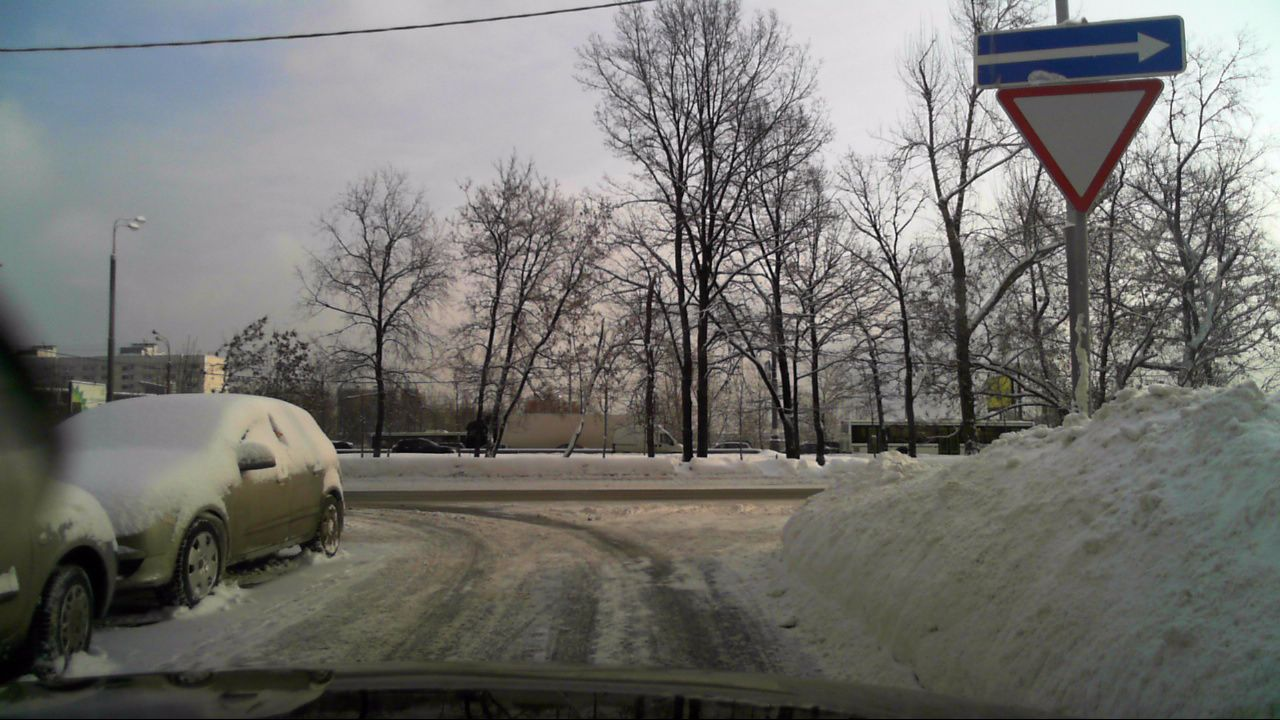One-Way Traffic: (975, 16, 1185, 83)
